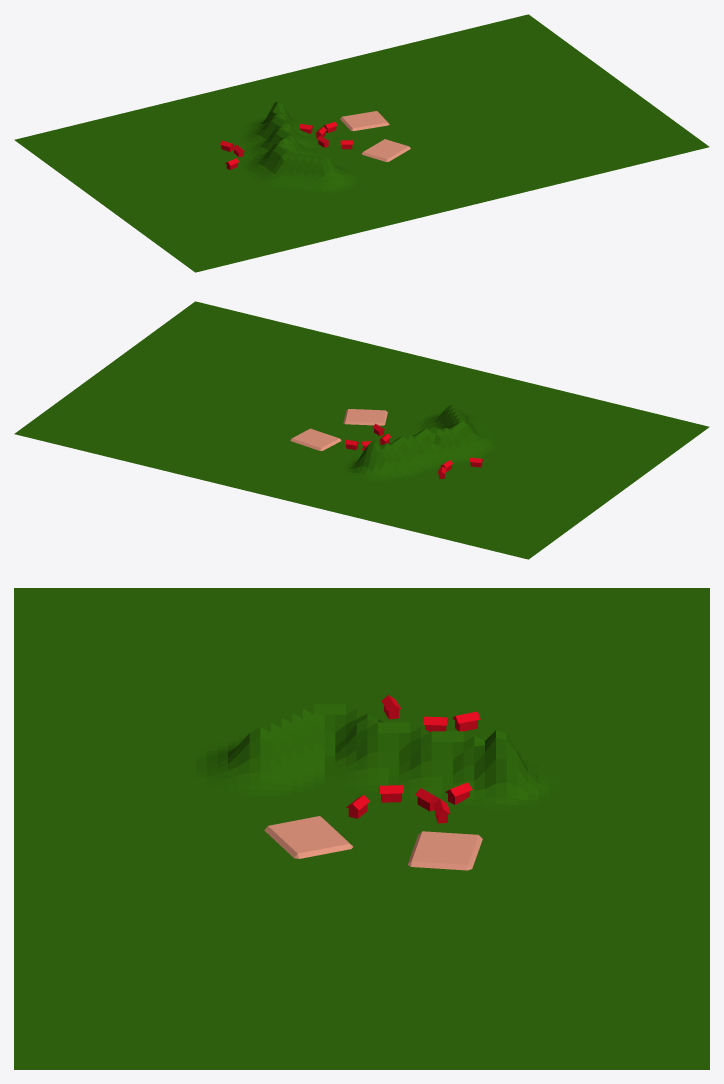
The model's file is SecondPlane.glb.
3 views of the same model, one above another, from view 1: azimuth 30°, elevation 25°; view 2: azimuth 150°, elevation 25°; view 3: azimuth 270°, elevation 25° (orthographic). The views are drawn at different scales.
Parts seen in each view (by area): view 1: Plane, Cube, Cube.001; view 2: Plane, Cube.001, Cube; view 3: Plane, Cube, Cube.001.
Boxes of the visible parts, x1,y1,x2,y2 form: Plane: (14,14,709,272); Cube: (340,111,389,131); Cube.001: (361,139,410,161); Plane: (14,301,709,559); Cube.001: (343,409,387,425); Cube: (290,428,341,450); Plane: (14,588,709,1069); Cube: (407,831,482,870); Cube.001: (264,816,353,858).
Bounding box in the file's own units: 164 × 9.72 × 100.
